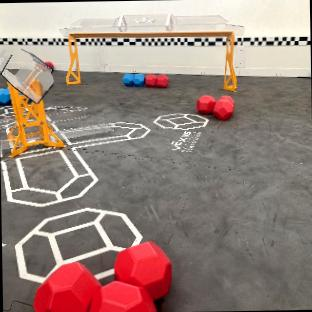Goal: (62, 12, 242, 90), (1, 55, 62, 156)
V5_BLUE: (122, 73, 144, 86), (0, 87, 10, 104)
V5_RED: (34, 242, 170, 312), (196, 95, 234, 119), (145, 74, 167, 87), (45, 60, 52, 68)
